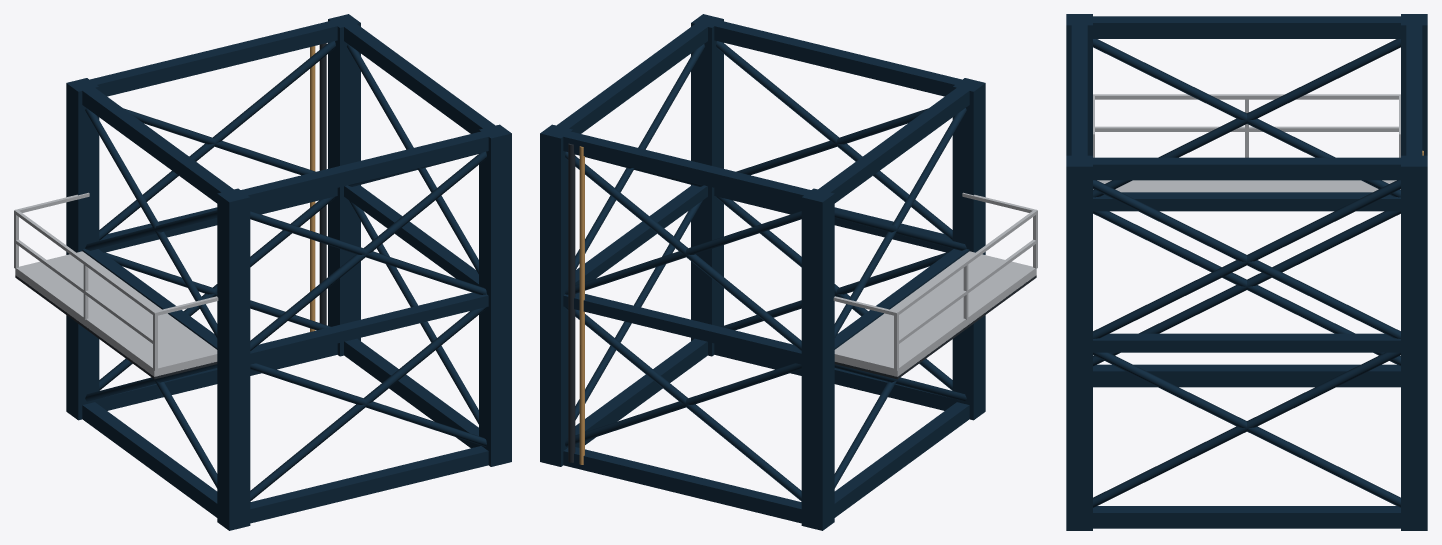
Rendered from world_gantry_segment.glb.
3 views of the same model, side by side, from view 1: azimuth 30°, elevation 25°; view 2: azimuth 150°, elevation 25°; view 3: azimuth 270°, elevation 25° (orthographic). The views are drawn at different scales.
Visible parts, largest first — view 1: world_gantry_segment_mesh; view 2: world_gantry_segment_mesh; view 3: world_gantry_segment_mesh.
Boxes of the visible parts, bbox=[...] form: world_gantry_segment_mesh: bbox=[14, 14, 511, 530]; world_gantry_segment_mesh: bbox=[540, 14, 1037, 530]; world_gantry_segment_mesh: bbox=[1066, 14, 1427, 530].
Size of the model in its own units: 6.61 by 6 by 5.4.
